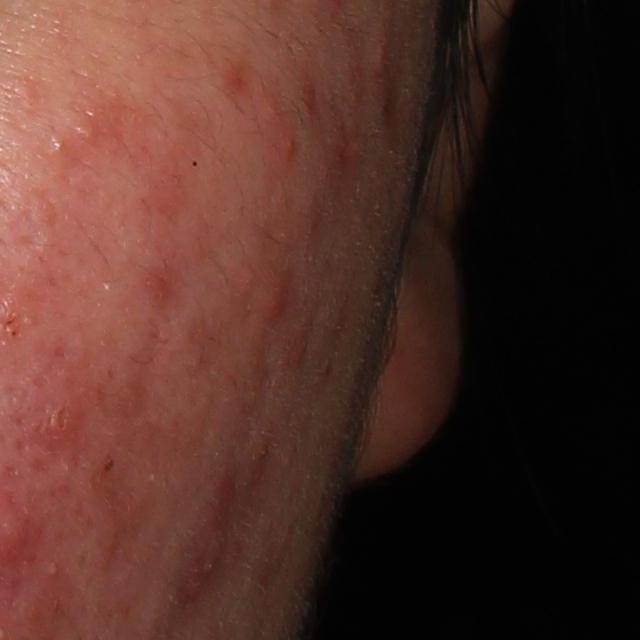nodule: (161, 442, 253, 627)
papule: (40, 398, 81, 443)
